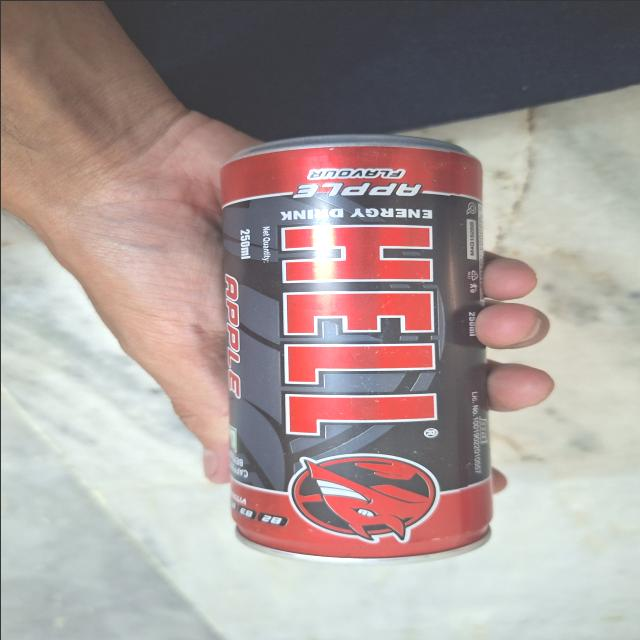Hell Apple: (202, 126, 526, 574)
